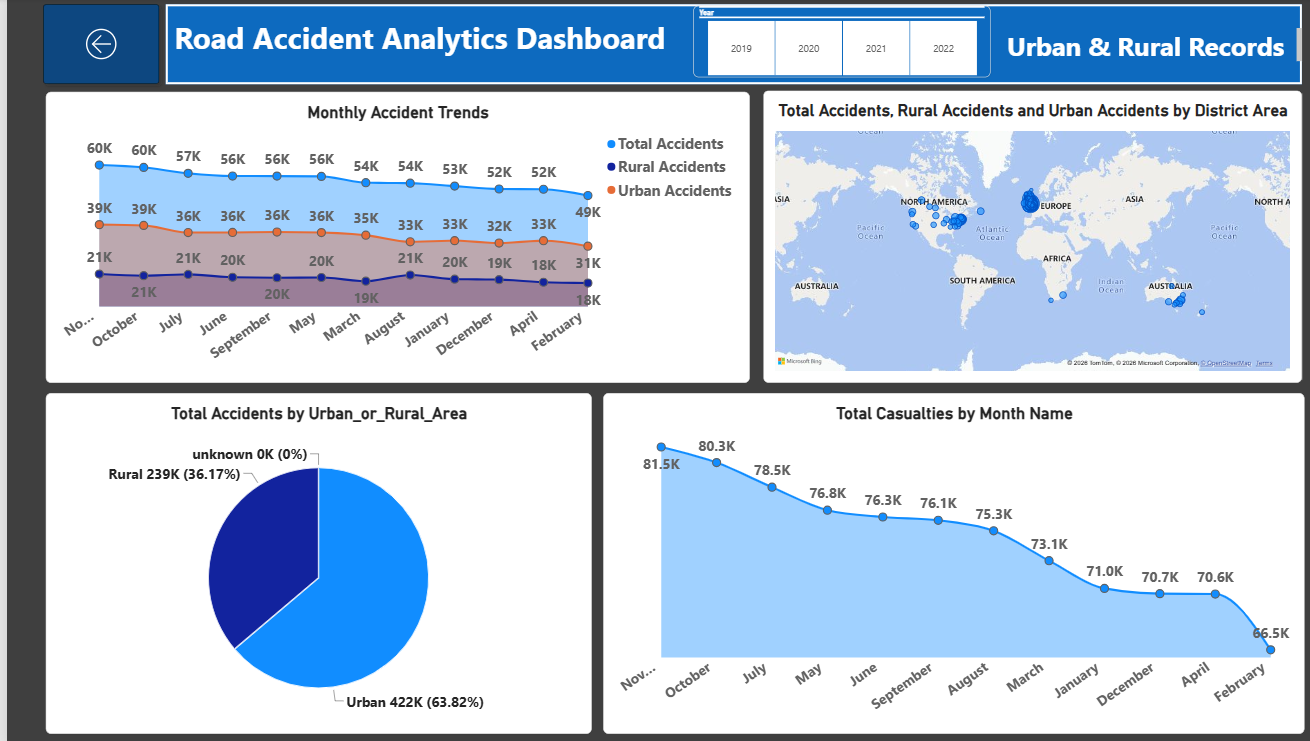

What the dashboard file says about the page in this screenshot:
{"tool":"powerbi","page":{"name":"03_urban v/s Rural","canvas":[1920,1080],"ordinal":2},"visuals":[{"type":"pieChart","fields":{"Y":["accident data.Total Accidents"],"Category":["accident data.Urban_or_Rural_Area"]},"box":[56.3,572.5,790.3,493.7],"z":0},{"type":"areaChart","title":"Monthly Accident Trends","fields":{"Category":["accident data.Month Name"],"Y":["accident data.Total Accidents","accident data.Rural Accidents","accident data.Urban Accidents"]},"box":[56.1,135.7,1018.8,421.7],"z":1000},{"type":"areaChart","fields":{"Category":["accident data.Month Name"],"Y":["accident data.Total Casualties"]},"box":[863.5,572.5,1015.6,493.7],"z":2000},{"type":"shape","box":[229,9.4,1645,115.8],"z":3000},{"type":"actionButton","box":[43.2,0,185.8,133.3],"z":4000},{"type":"map","fields":{"Size":["accident data.Total Accidents"],"Category":["accident data.District Area"]},"box":[1094.8,133.9,780,423.5],"z":5000},{"type":"textbox","box":[242.5,27.1,729.3,83.2],"z":6000},{"type":"textbox","box":[1447.7,43.4,427.1,48.9],"z":7000},{"type":"slicer","fields":{"Values":["accident data.Year"]},"box":[994,10,430,104],"z":7001}]}

Visuals, with their boxes in screenshot pixels (x1, y1, x2, y2), scaled from the page's 1920x1080 canvas onto the 1310x741 screenshot:
pieChart - accident data.Total Accidents x accident data.Urban_or_Rural_Area: pyautogui.locateOnScreen(38, 393, 578, 732)
"Monthly Accident Trends" areaChart: pyautogui.locateOnScreen(38, 93, 733, 382)
areaChart - accident data.Month Name x accident data.Total Casualties: pyautogui.locateOnScreen(589, 393, 1282, 732)
shape: pyautogui.locateOnScreen(156, 6, 1279, 86)
actionButton: pyautogui.locateOnScreen(29, 0, 156, 91)
map - accident data.Total Accidents x accident data.District Area: pyautogui.locateOnScreen(747, 92, 1279, 382)
textbox: pyautogui.locateOnScreen(165, 19, 663, 76)
textbox: pyautogui.locateOnScreen(988, 30, 1279, 63)
slicer - accident data.Year: pyautogui.locateOnScreen(678, 7, 972, 78)
